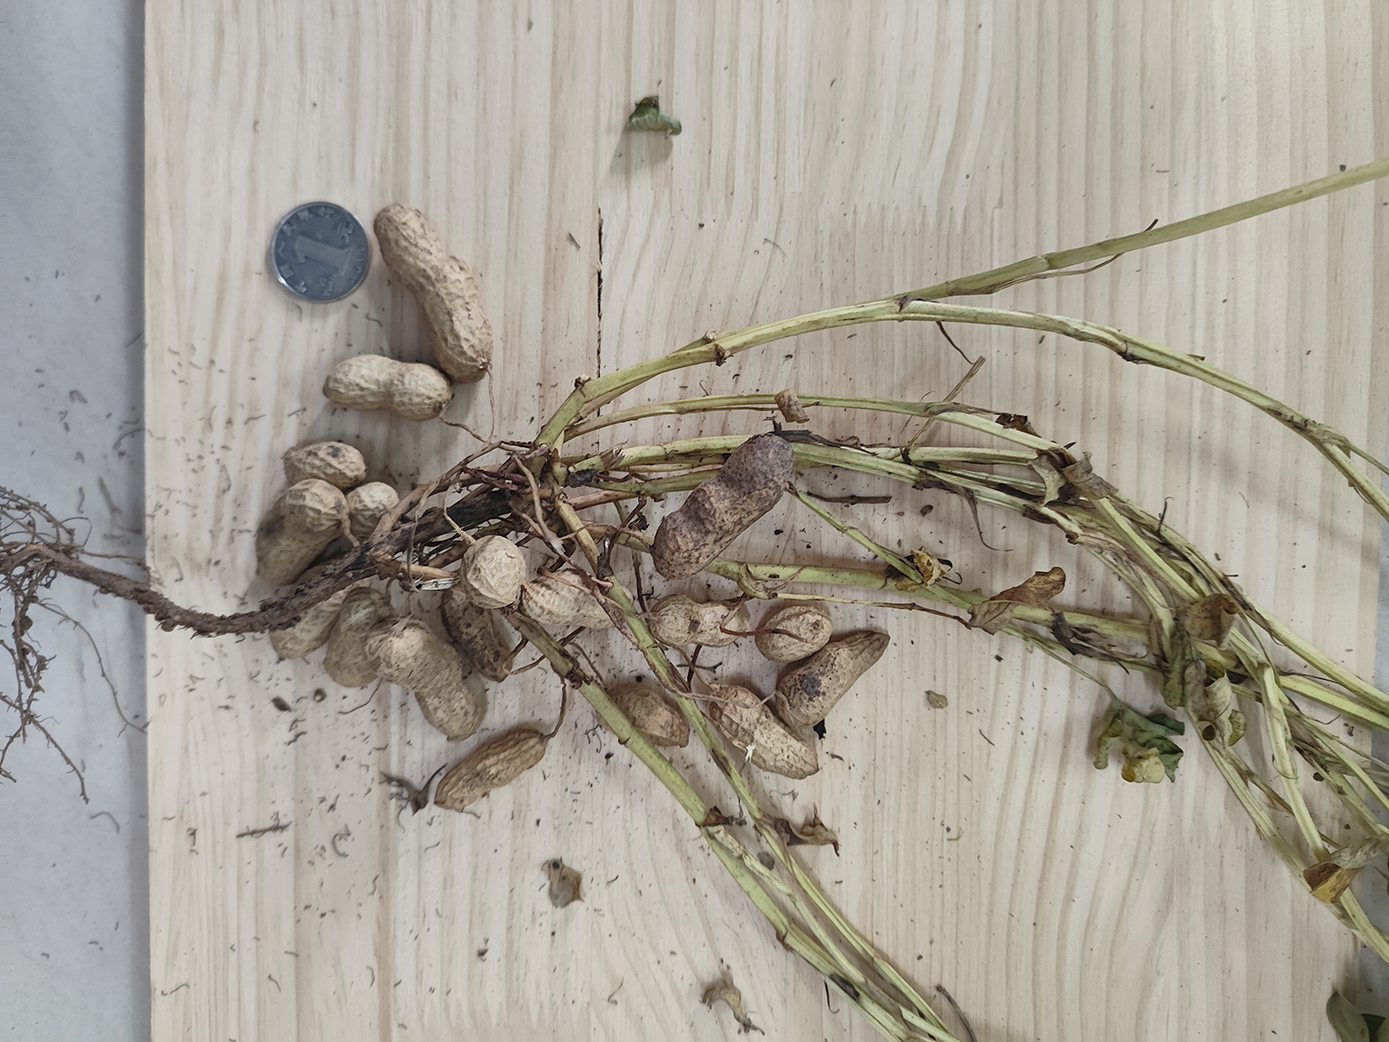h: (377, 202, 493, 382), (359, 618, 485, 740), (775, 634, 895, 730), (709, 687, 821, 780), (257, 481, 347, 587), (432, 729, 549, 810), (323, 356, 450, 421), (323, 589, 396, 692), (516, 570, 639, 630), (441, 587, 514, 682), (271, 574, 351, 660), (594, 683, 688, 750), (647, 595, 749, 649), (755, 606, 835, 665), (279, 440, 364, 491), (462, 537, 522, 610), (342, 482, 400, 545)
l: (655, 432, 789, 579)
